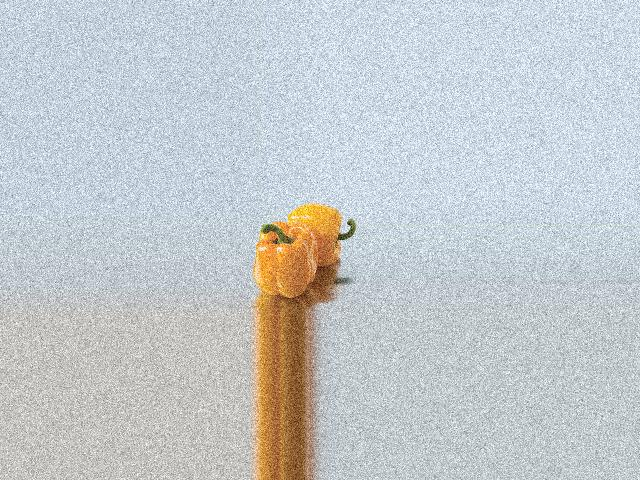bell_pepper: (285, 203, 354, 277)
